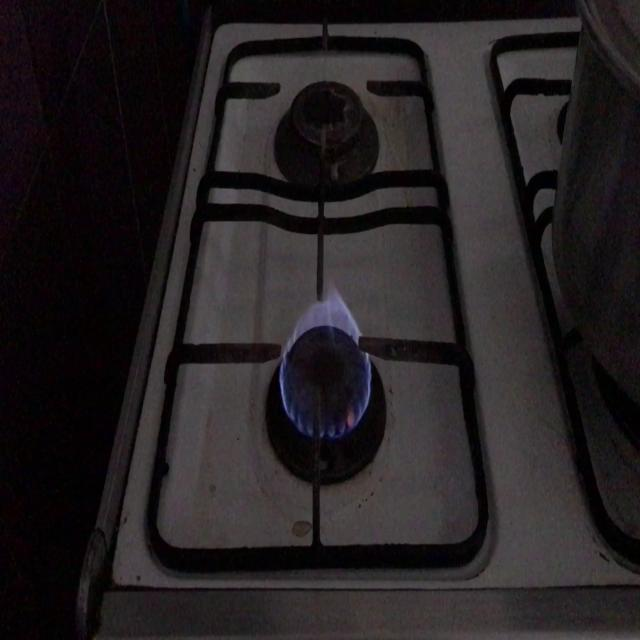Fire: (280, 286, 372, 448)
